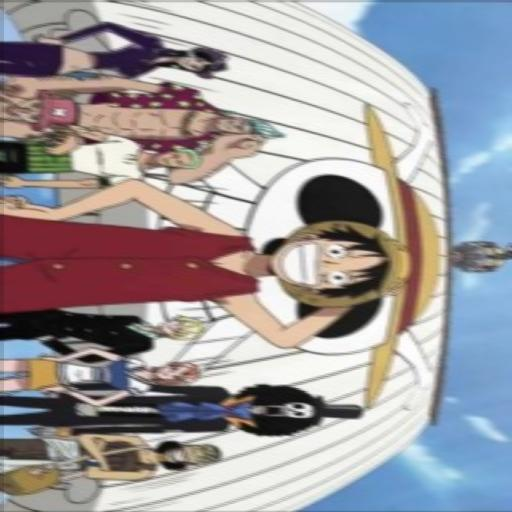Luffy: (254, 224, 414, 302)
Nami: (145, 358, 210, 386)
NicoRobin: (163, 46, 236, 82)
Usopp: (148, 440, 218, 472)
Zoro: (148, 148, 202, 174)
sanji: (150, 314, 207, 342)
